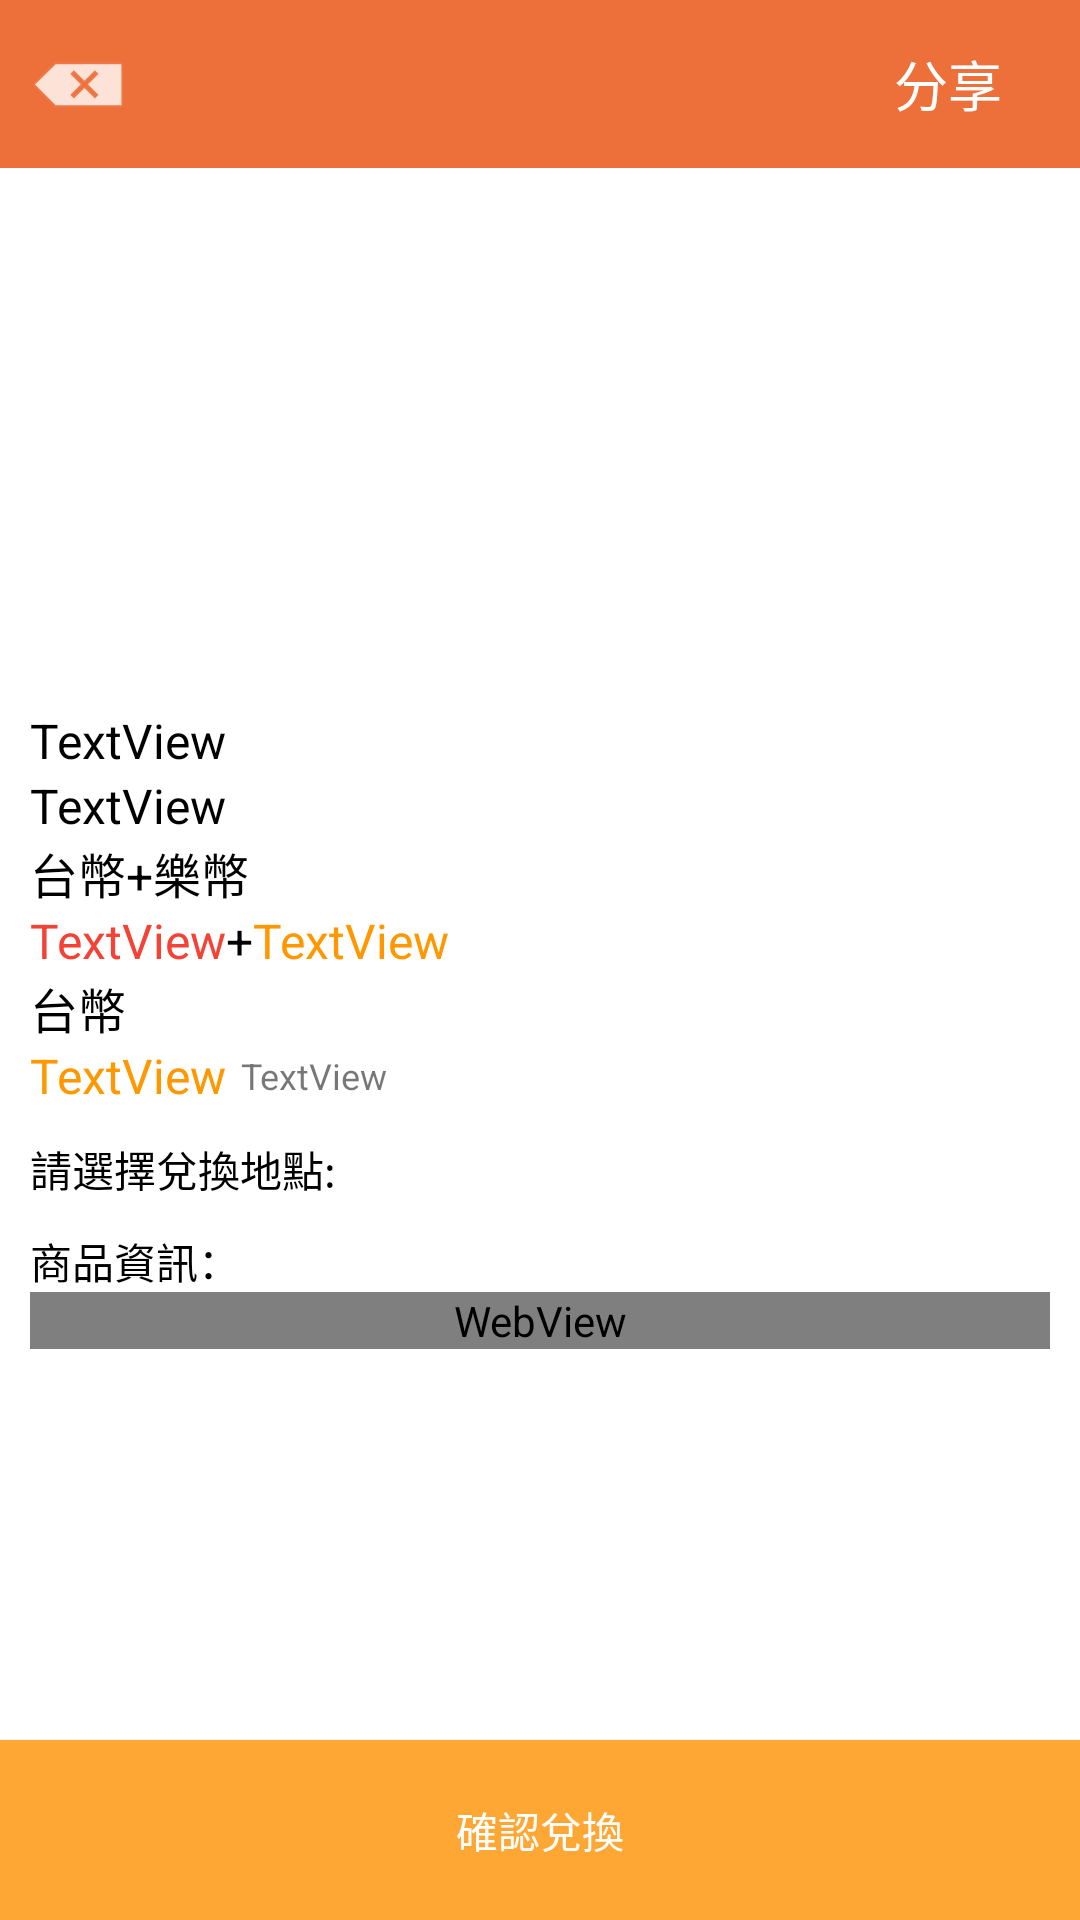

Icons on this 1080px×1920px Android screen, each with the point to tap as (x,y):
delete: (78,85)
